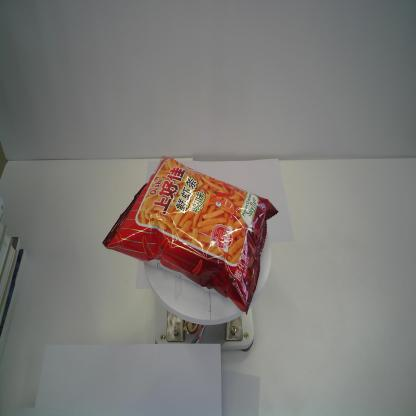Puffed Food: (101, 155, 279, 315)
